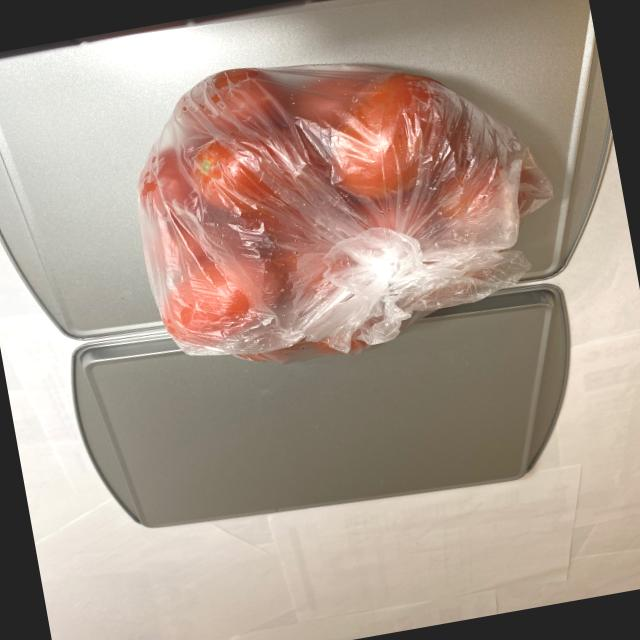tomato: (116, 22, 561, 380)
